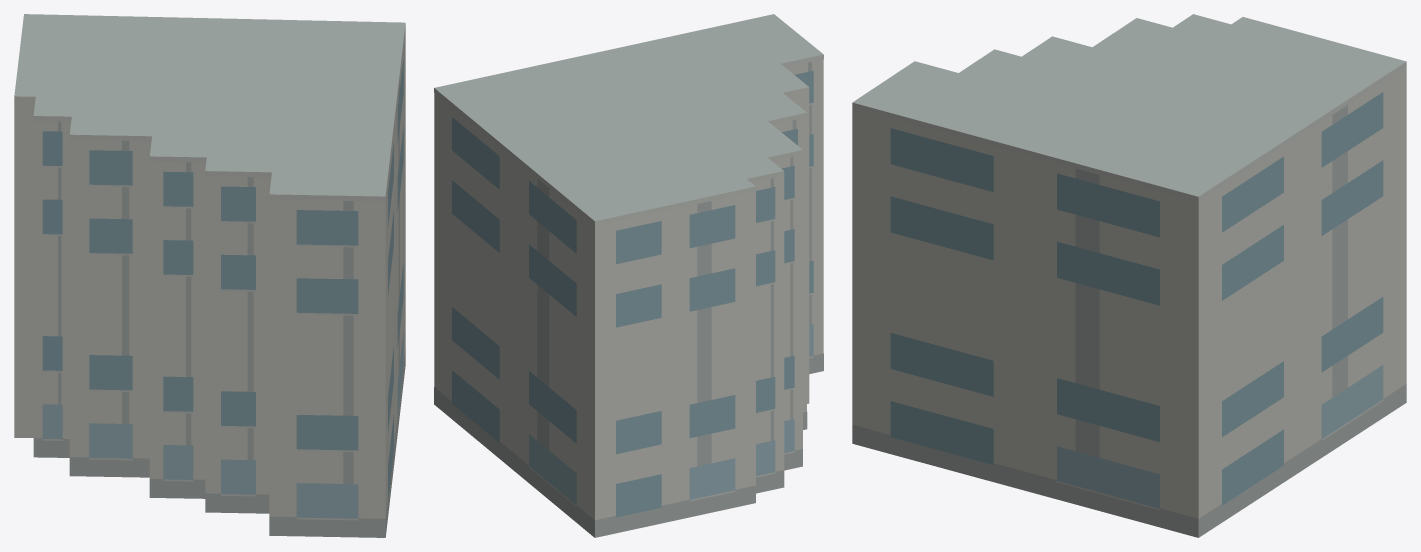
The model's file is survey-upis-32968889.glb.
3 renders of one model, left to right at view 1: azimuth 30°, elevation 25°; view 2: azimuth 150°, elevation 25°; view 3: azimuth 270°, elevation 25°, orthographic. The views are drawn at different scales.
Parts seen in each view (by area): view 1: survey-upis-32968889.tmp; view 2: survey-upis-32968889.tmp; view 3: survey-upis-32968889.tmp.
Boxes of the visible parts, <box> form: survey-upis-32968889.tmp: <box>14,14,405,537</box>; survey-upis-32968889.tmp: <box>434,14,823,537</box>; survey-upis-32968889.tmp: <box>852,14,1406,537</box>.
Size of the model in its own units: 18.28 by 15.9 by 23.43.
